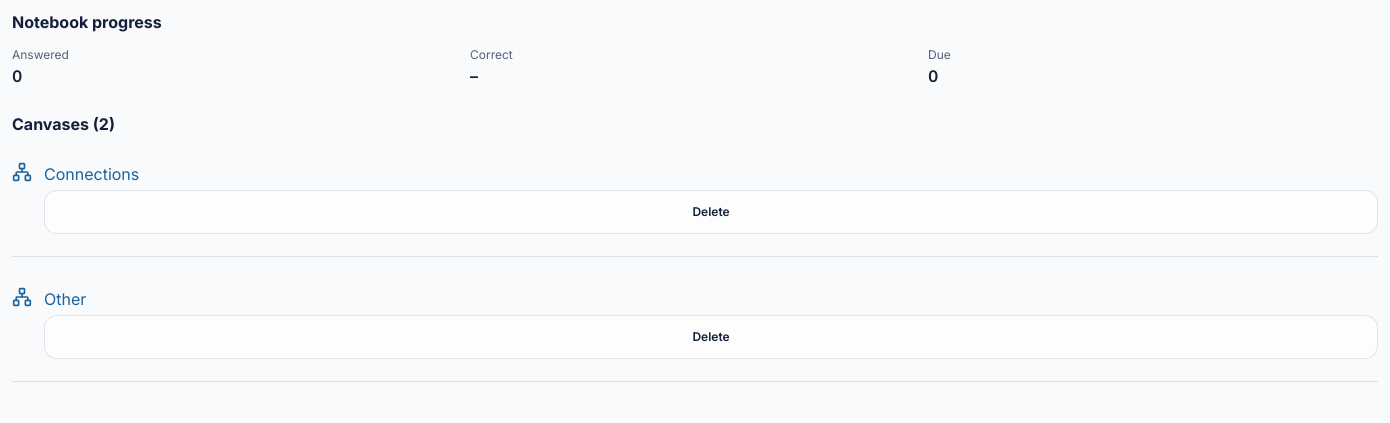
keeps only one confirmation open
What coordinates should you click on to do the following:
click the button with aria-label "Delete canvas Connections"
I would click on:
 (711, 212)
Its box is [44, 190, 1378, 234].
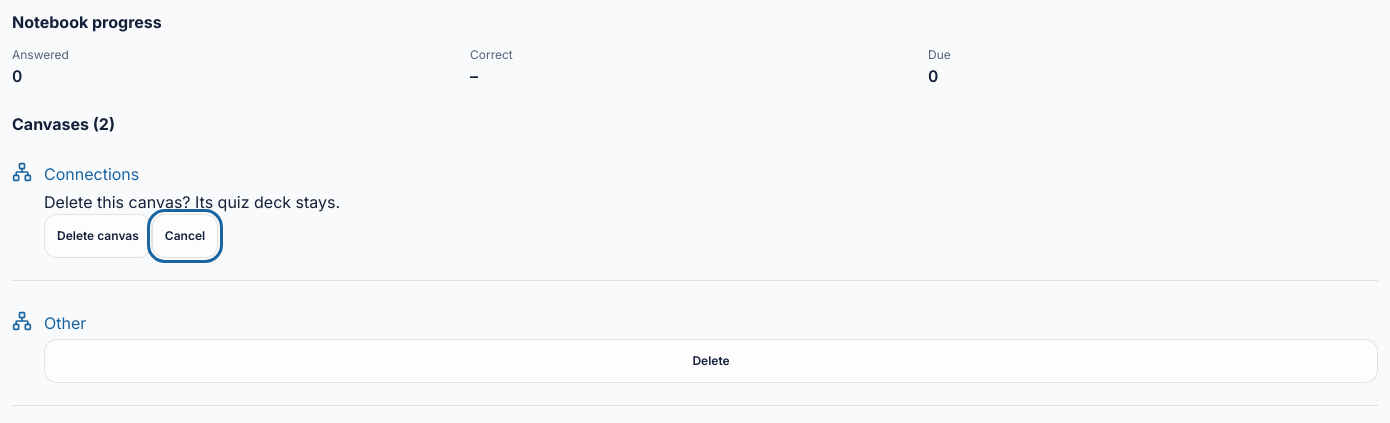
What coordinates should you click on to do the following:
click the button with aria-label "Delete canvas Other"
I would click on:
 (711, 361)
Its box is [44, 339, 1378, 383].
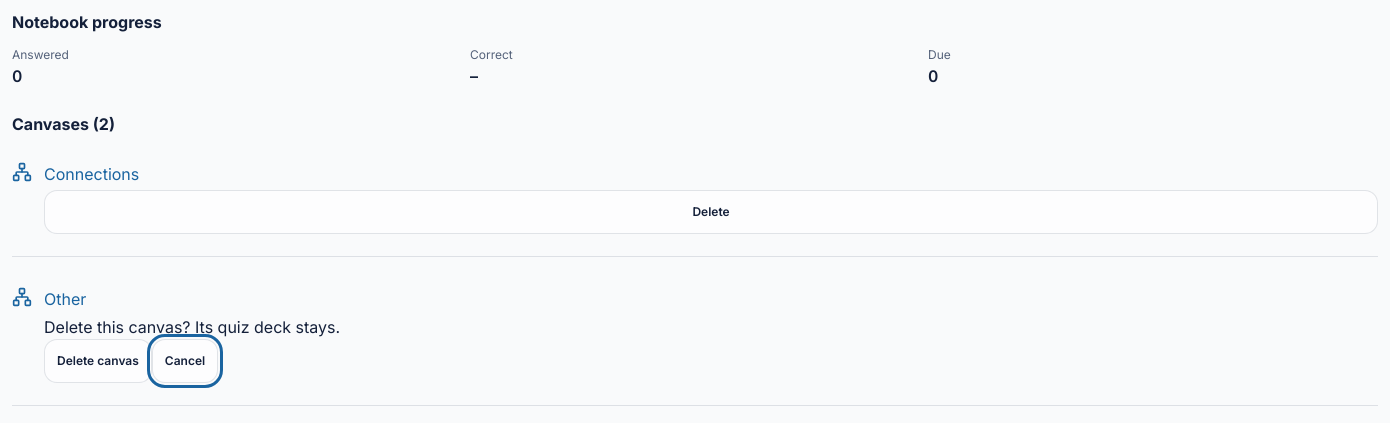
Expected: the text "Delete this canvas? Its quiz deck stays." is shown once, [44, 317, 340, 337]
Expected: the button with aria-label "Delete canvas Connections" is shown, [44, 190, 1378, 234]
